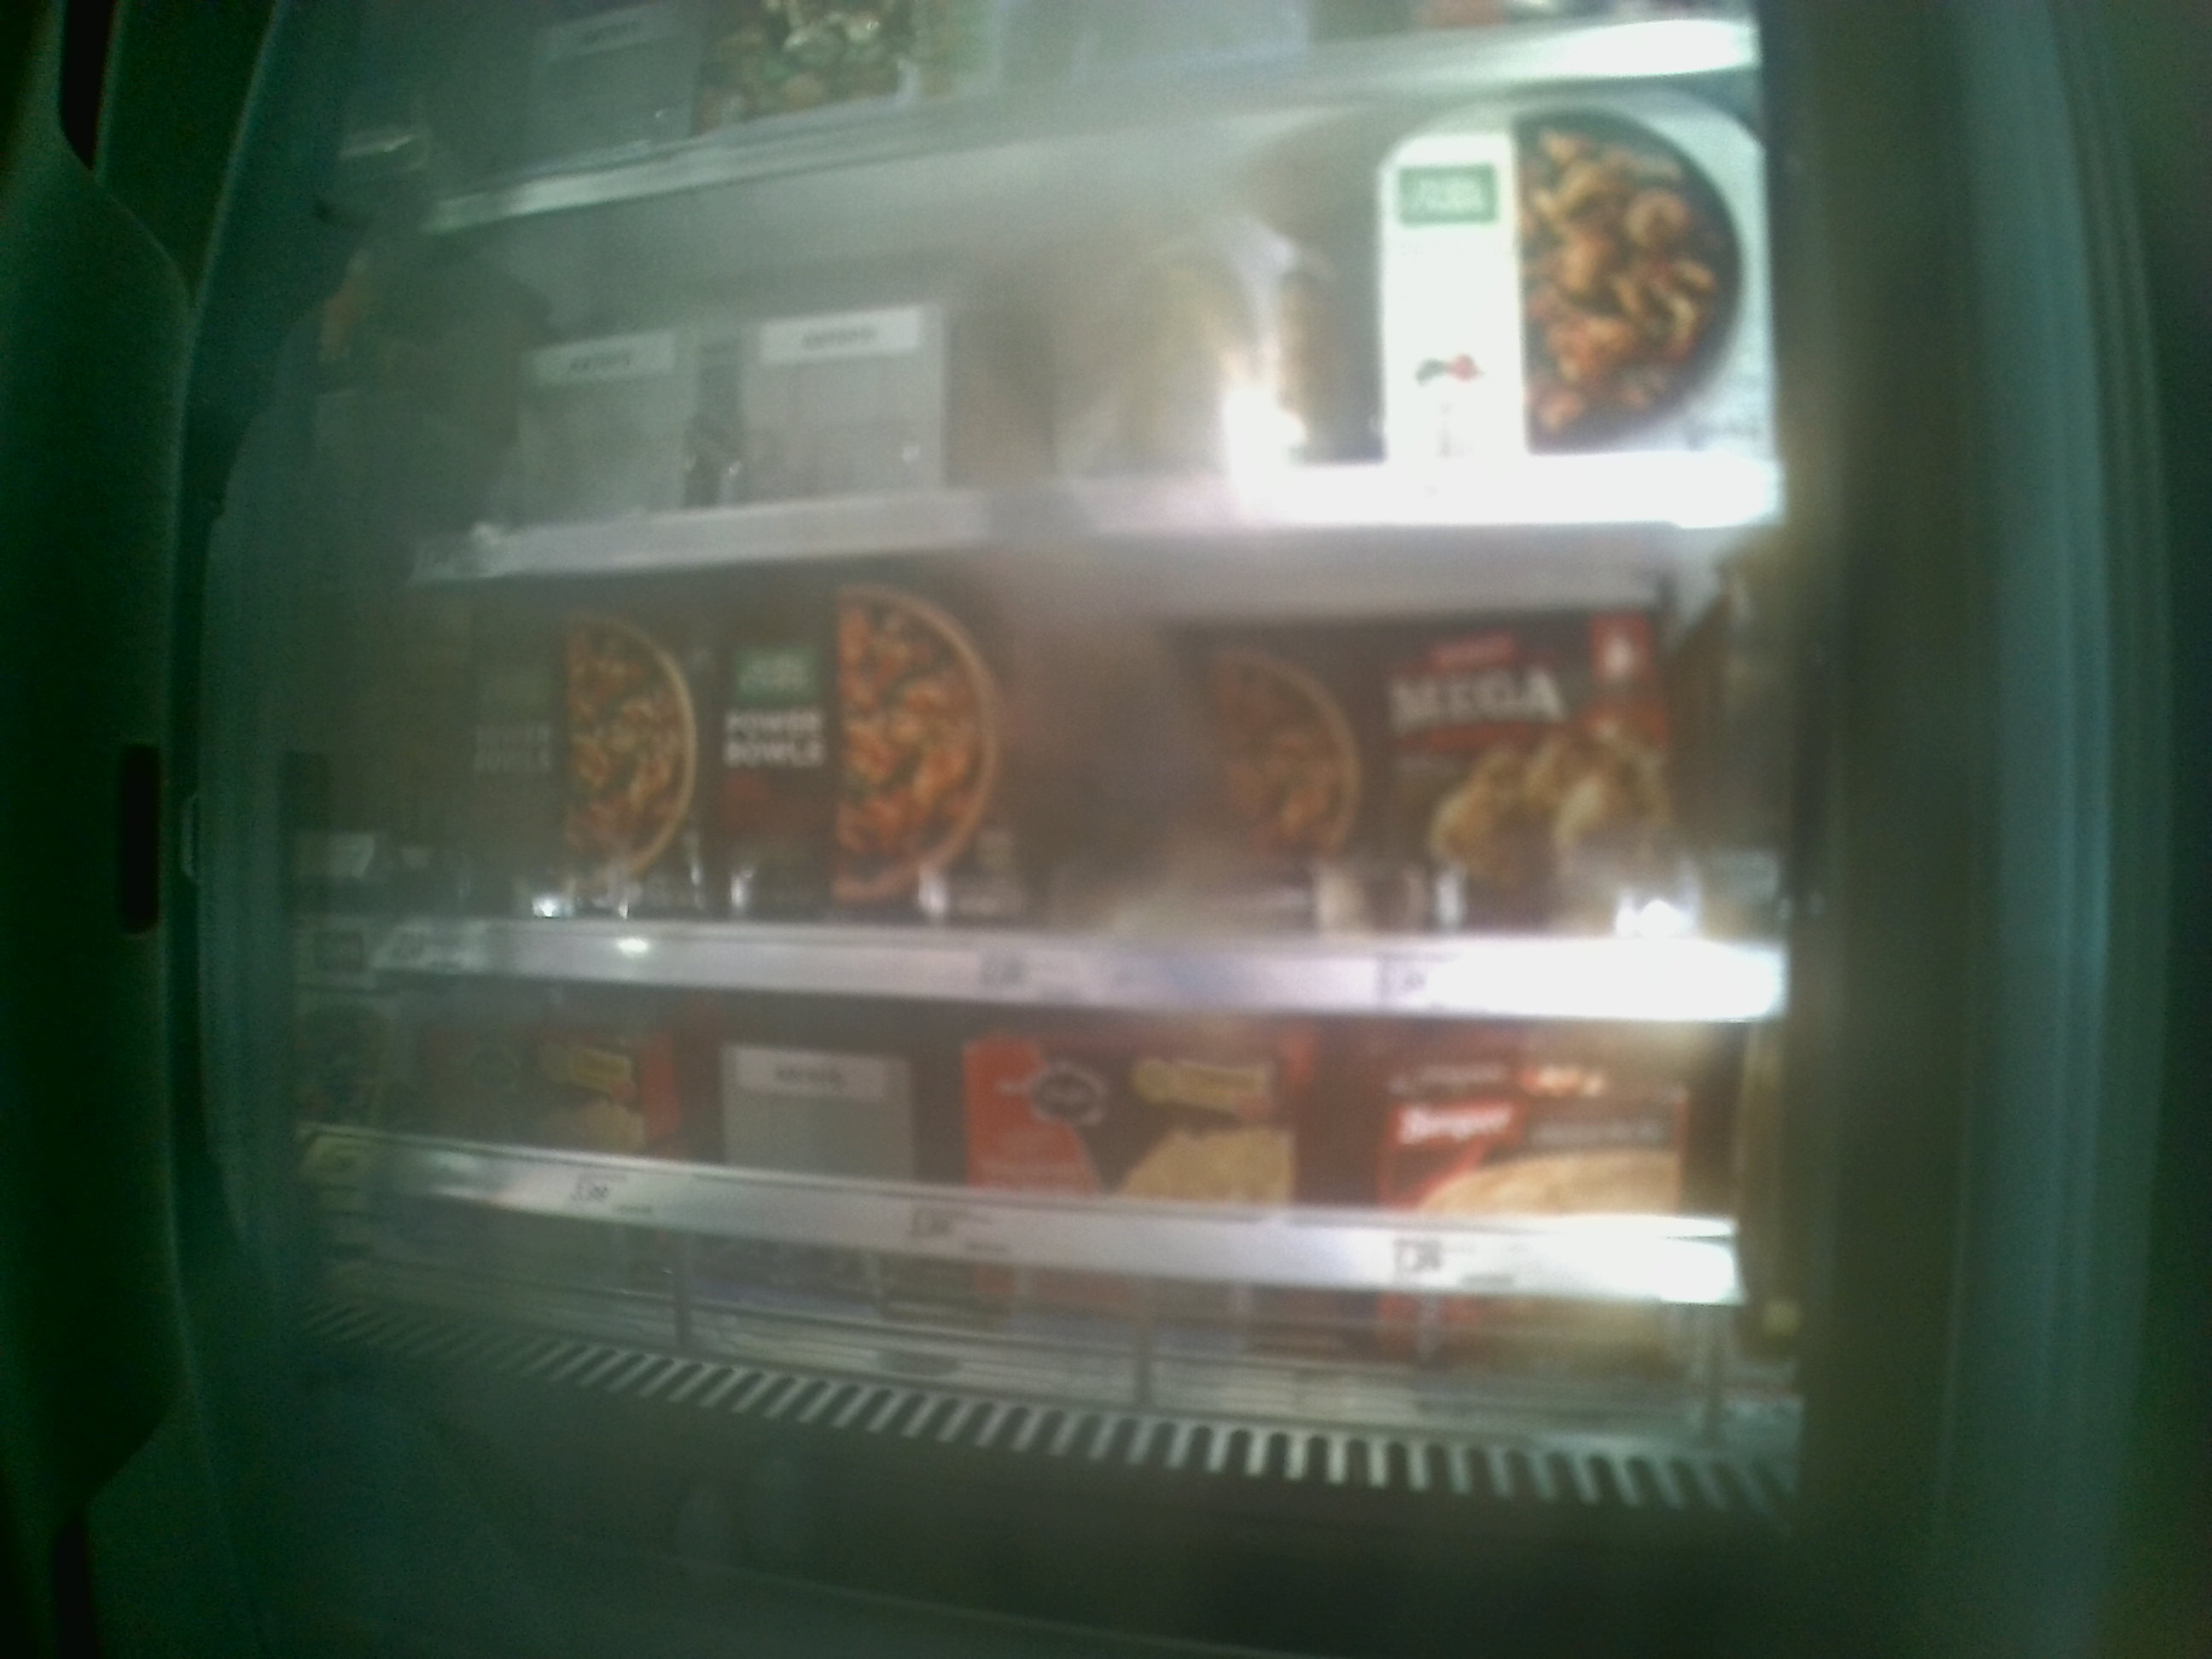shelf: (286, 969, 1785, 1471), (289, 511, 1787, 1012)
